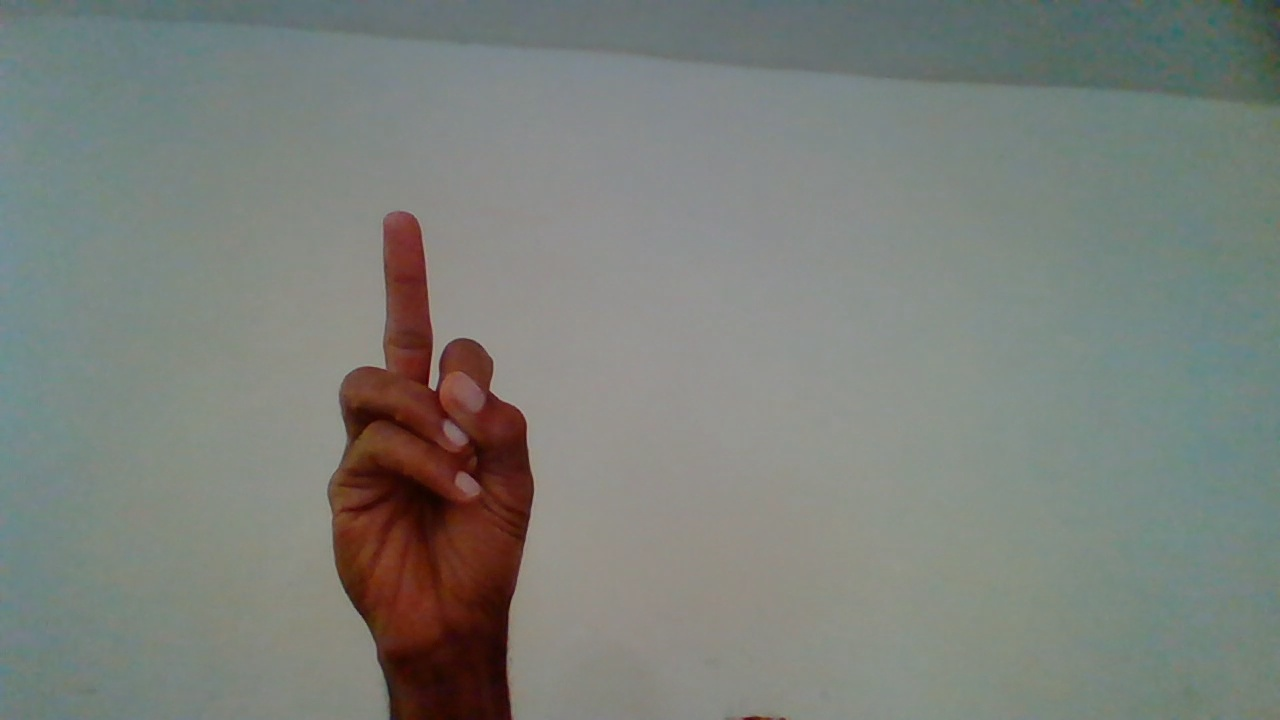he: (332, 209, 546, 720)
